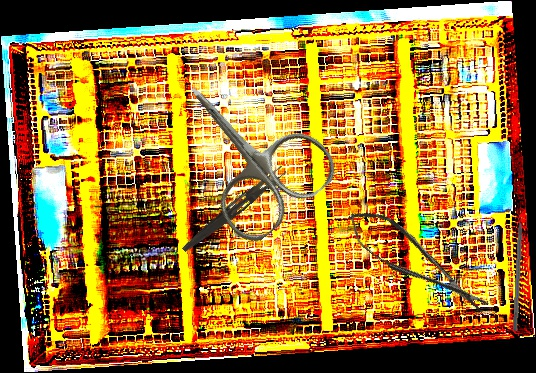Dressing Forceps: (180, 161, 288, 258)
Hook Surgical: (512, 206, 526, 332)
Iris Scissors: (146, 48, 345, 250)
Micro Scissor: (339, 197, 495, 329)
